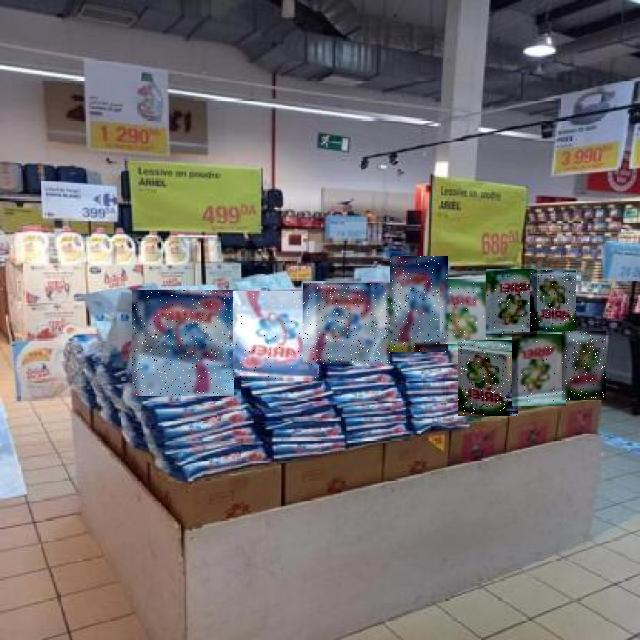Detergent: (132, 290, 234, 396), (233, 292, 319, 380), (304, 284, 392, 366), (390, 257, 448, 353), (459, 341, 519, 417), (512, 334, 566, 406), (486, 269, 537, 337), (440, 279, 492, 344), (562, 331, 606, 400), (530, 270, 576, 332)
